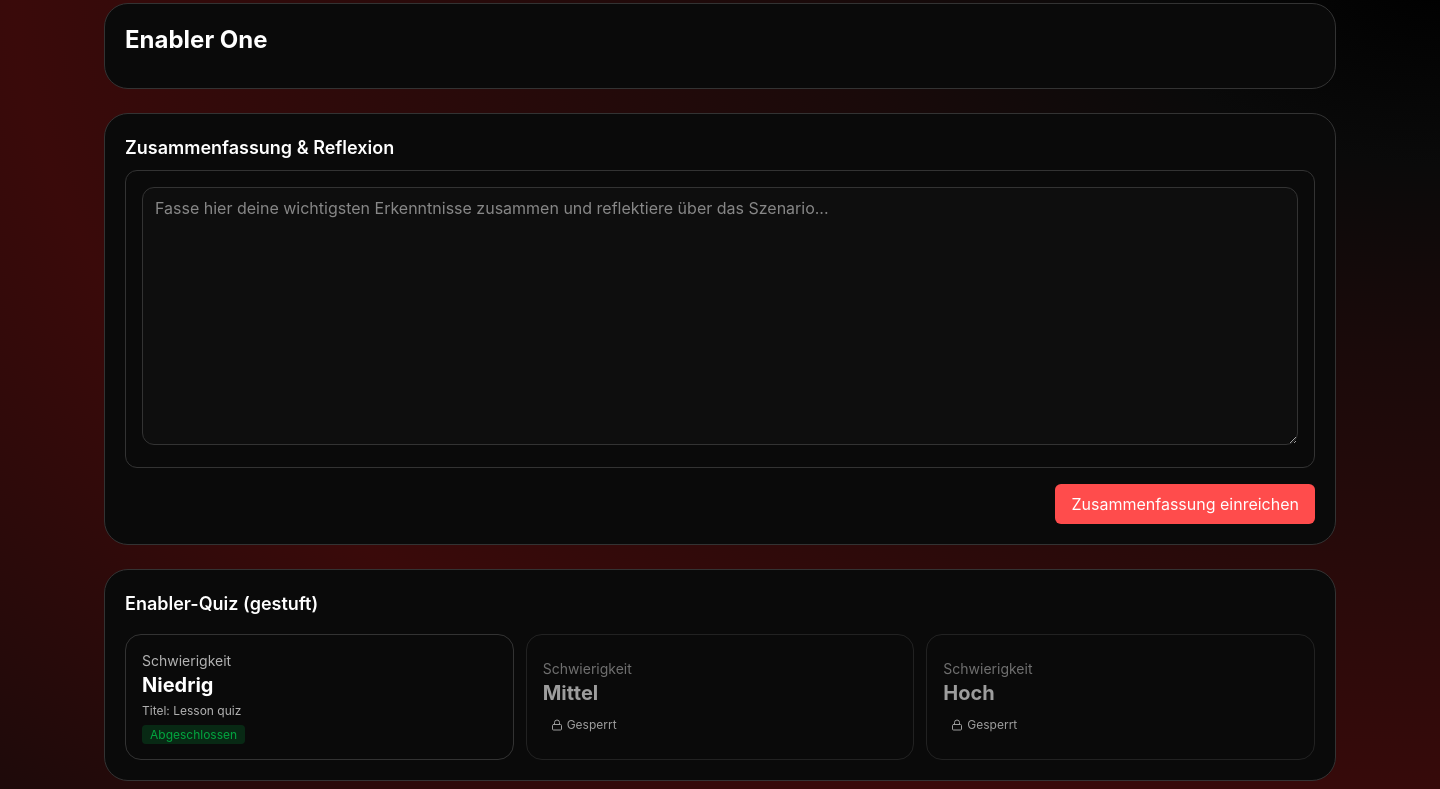
Test: lesson quiz on the enabler page › a completed quiz shows the stored result and reasoning (review only)
Click the button "Schwierigkeit Niedrig Titel: Lesson quiz Abgeschlossen" at (187, 660), box [125,634,514,760]
(page scrolled)
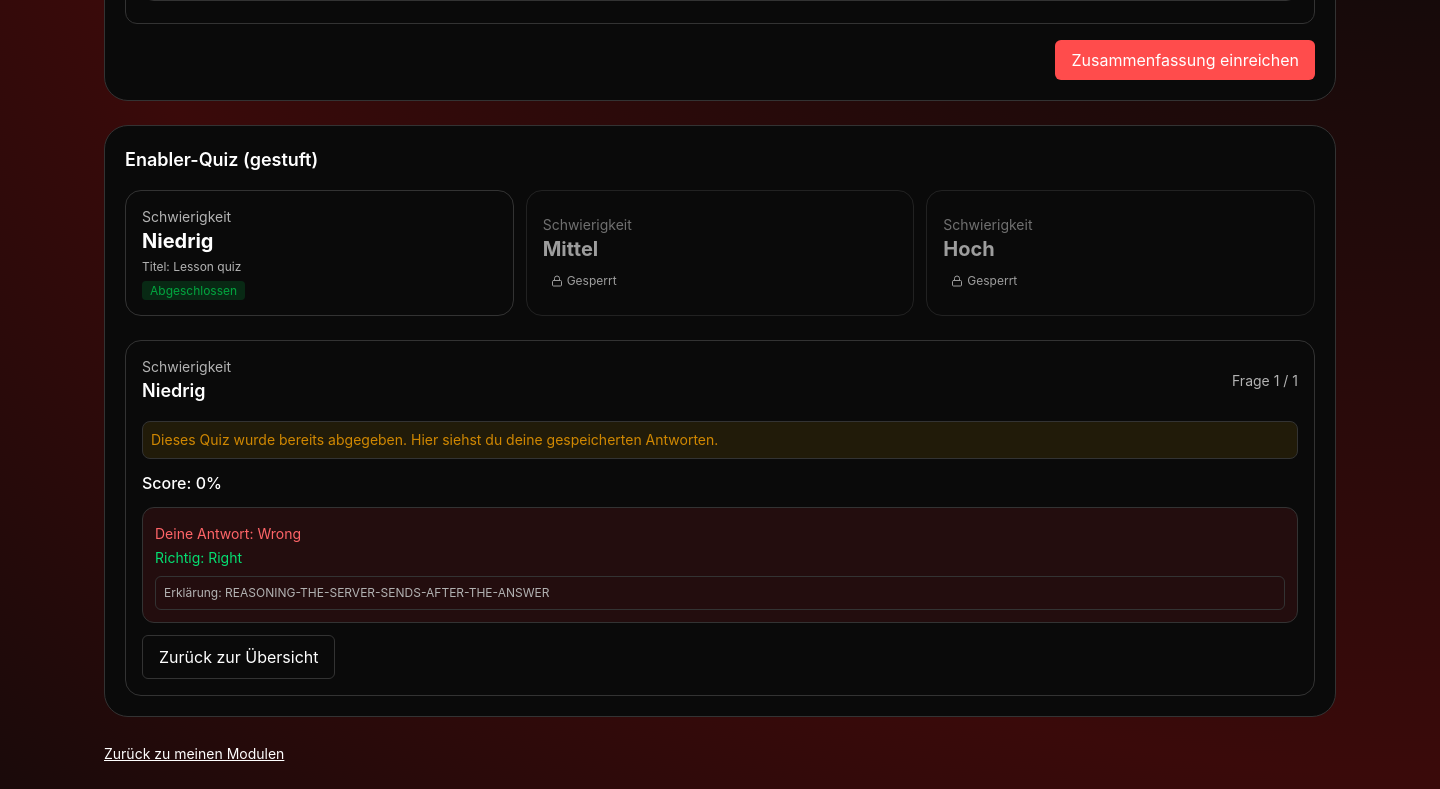
Expected: the text "Erklärung: REASONING-THE-SERVER-SENDS-AFTER-THE-ANSWER" is shown, [155,576,1285,610]
